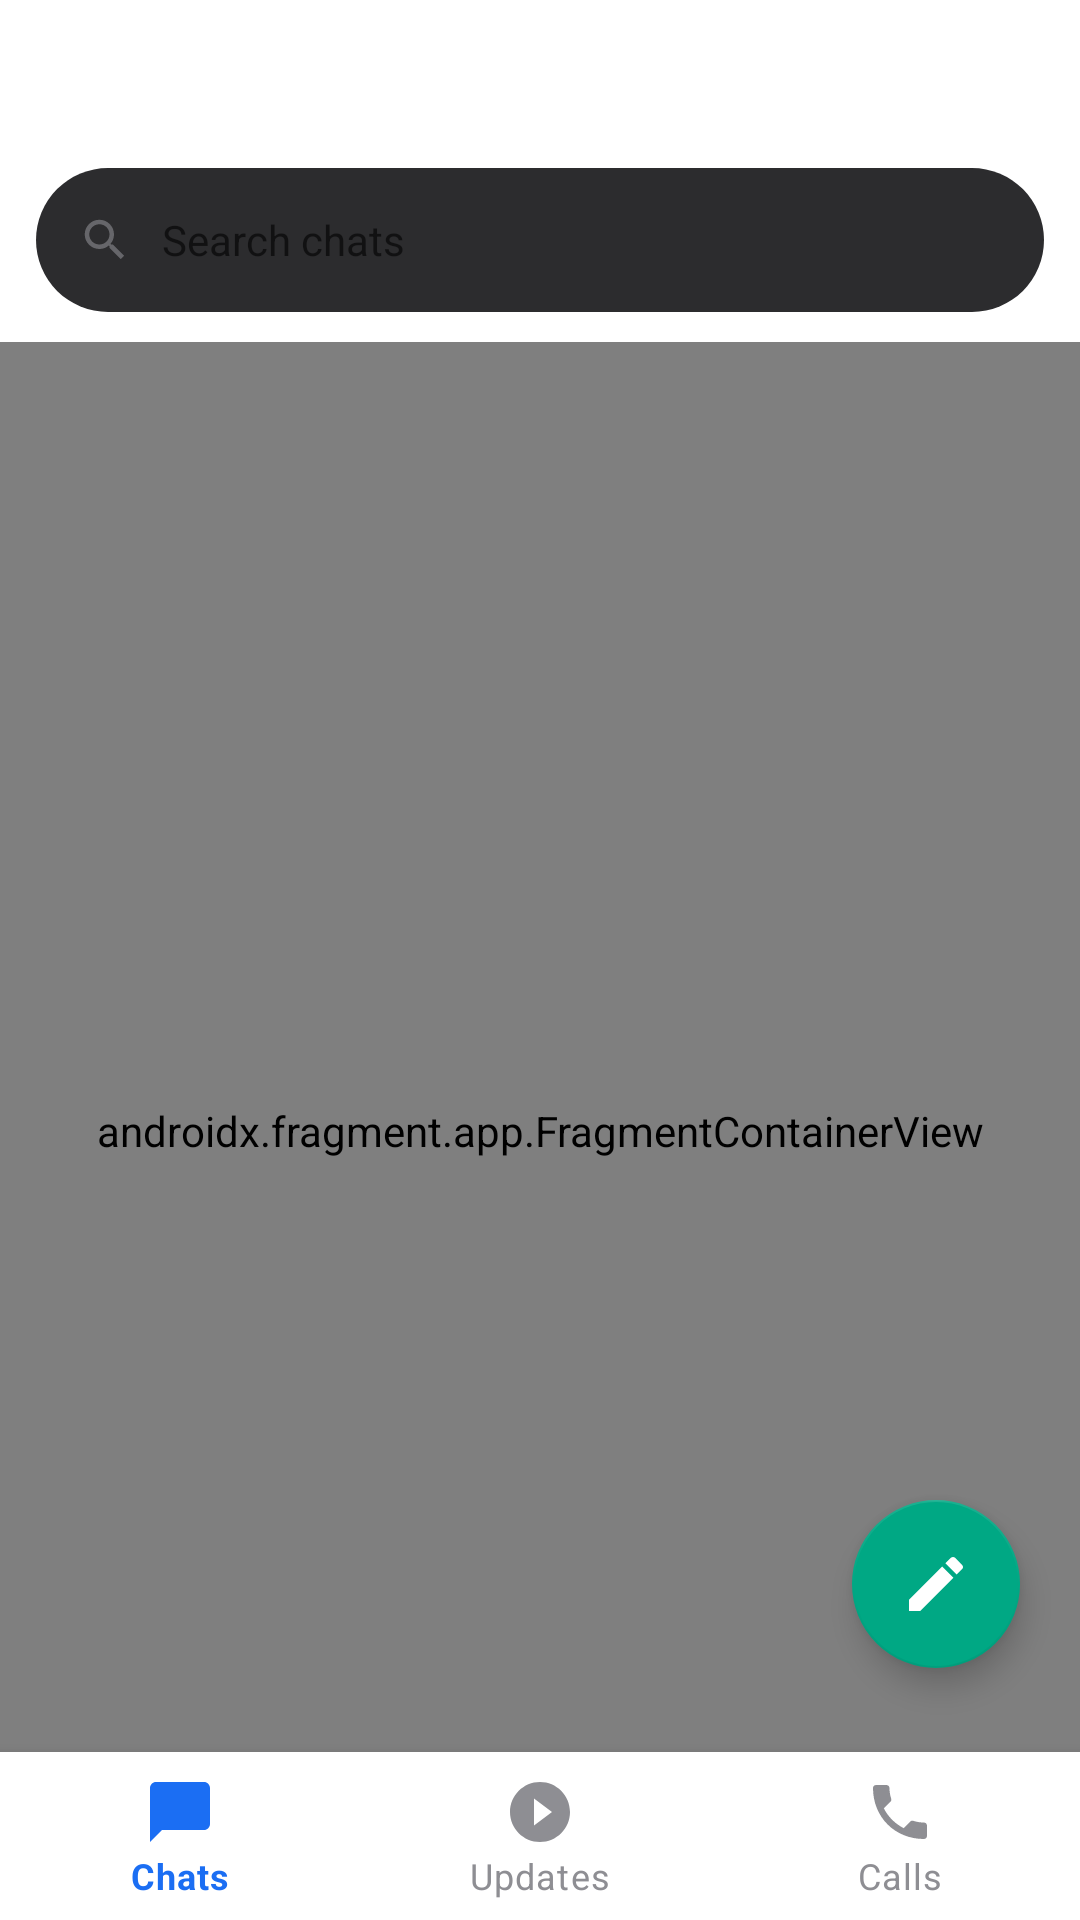

Named icons in this screenshot (1080×1920) and their bounding boxes, (x1, y1, x2, y2):
compose: (852, 1500, 1020, 1668)
